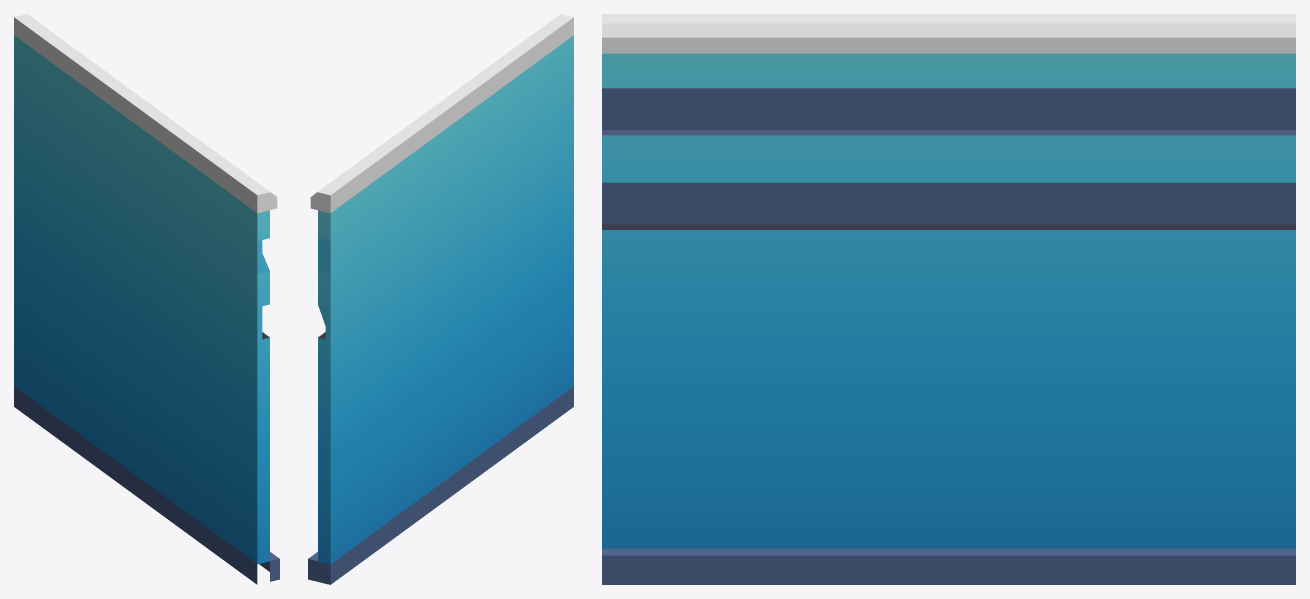
Rendered from 5Wall_Straight.fbx.
3 renders of one model, left to right at view 1: azimuth 30°, elevation 25°; view 2: azimuth 150°, elevation 25°; view 3: azimuth 270°, elevation 25°, orthographic. The views are drawn at different scales.
Visible parts, largest first — view 1: 5Wall_Straight; view 2: 5Wall_Straight; view 3: 5Wall_Straight.
Boxes of the visible parts, <box> form: 5Wall_Straight: <box>14,14,279,584</box>; 5Wall_Straight: <box>308,14,573,584</box>; 5Wall_Straight: <box>602,14,1295,584</box>.
Bounding box in the file's own units: 21.31 × 353 × 400.
